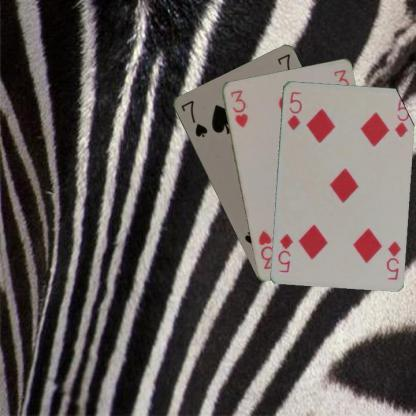3h: (227, 88, 249, 128)
5d: (284, 89, 303, 132), (384, 238, 402, 281)
7s: (178, 97, 209, 139)
